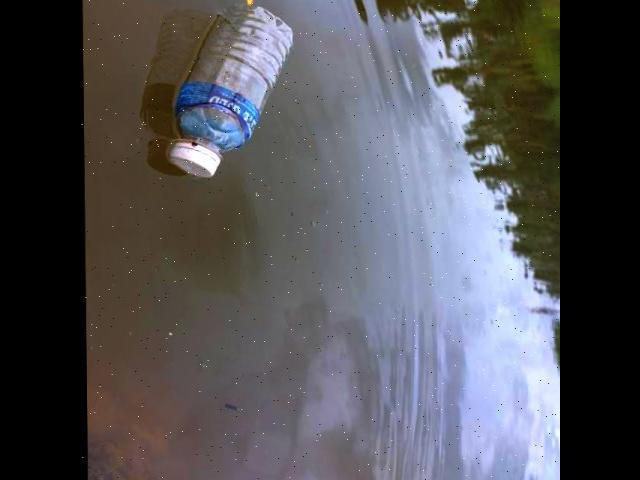Bottle: (165, 2, 298, 184)
